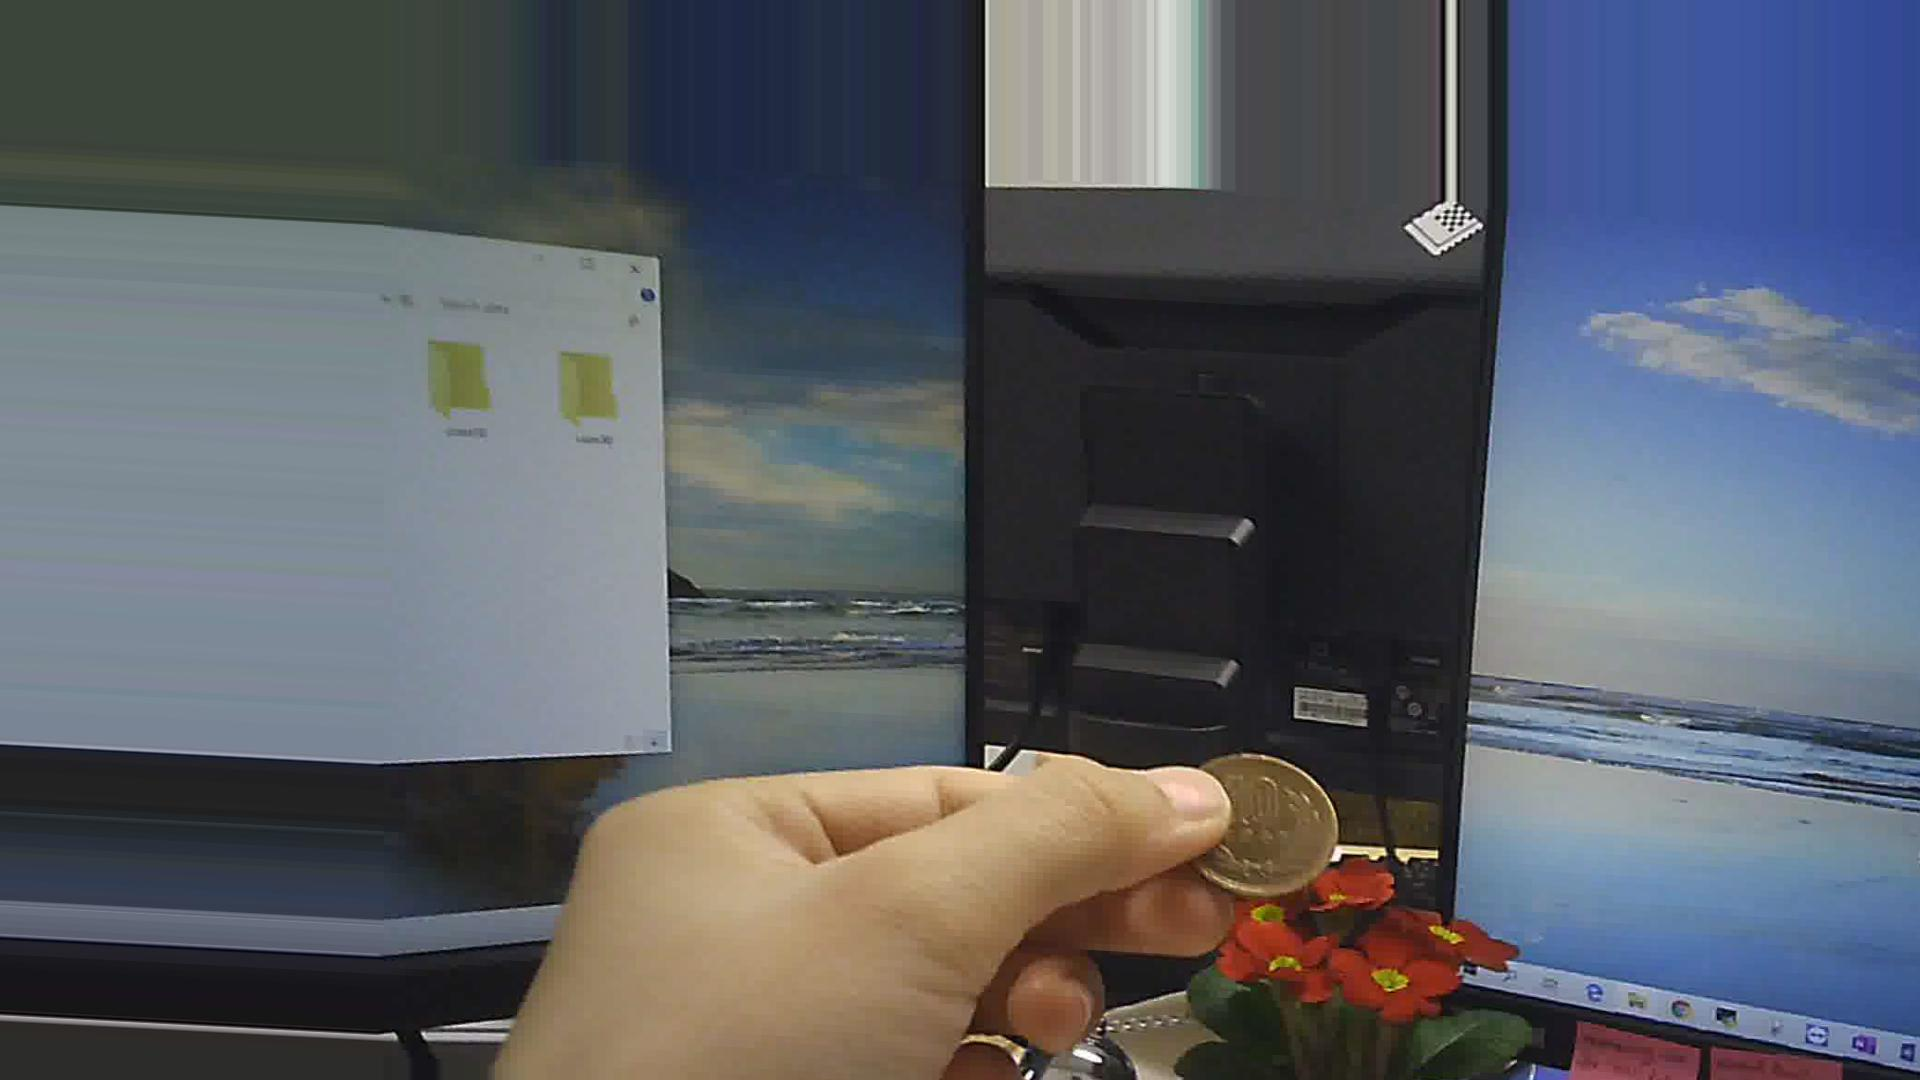10 Yen: (1171, 745, 1336, 891)
